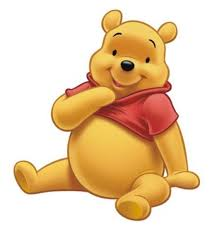Winnie: (72, 8, 179, 124)
